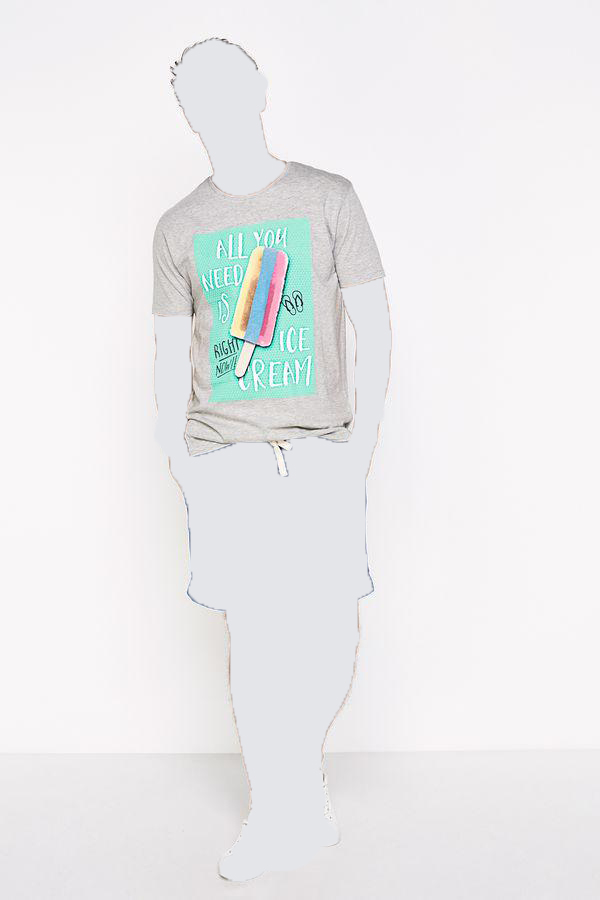teeshirt: (140, 156, 393, 454)
